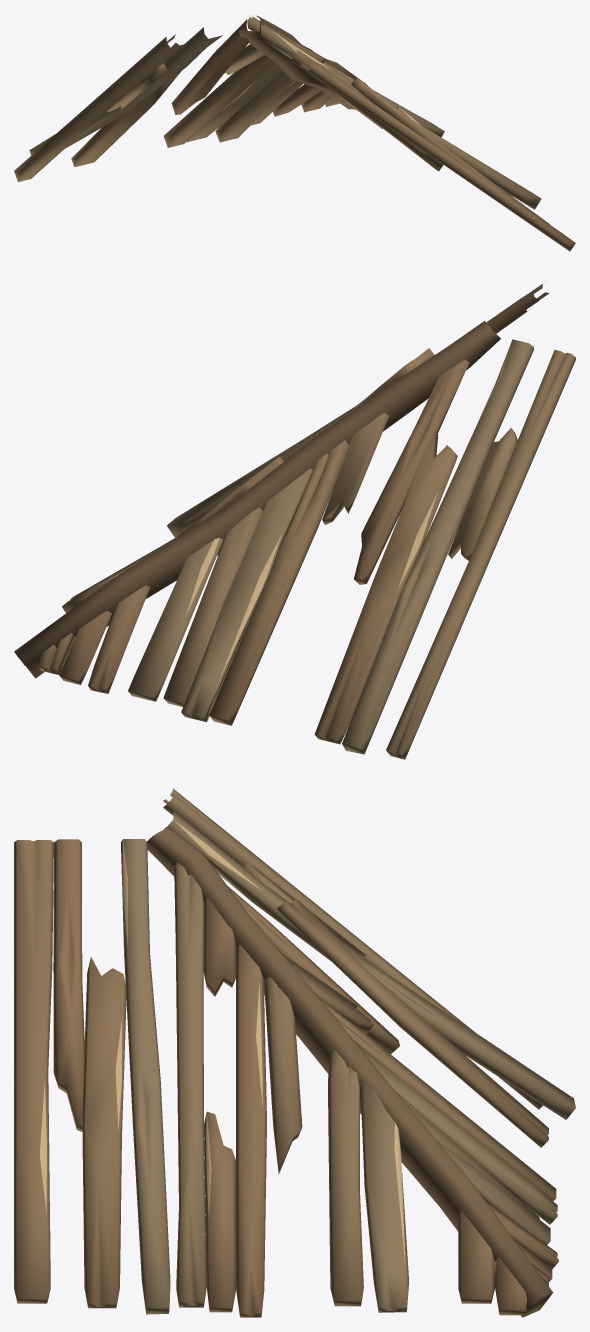
Rendered from rpgpp_av_roof_02_9x4x3_corner_02.gltf.
3 renders of one model, top to bottom at view 1: azimuth 30°, elevation 25°; view 2: azimuth 150°, elevation 25°; view 3: azimuth 270°, elevation 25°, orthographic. The views are drawn at different scales.
Visible parts, largest first — view 1: rpgpp_av_roof_02_9x4x3_corner_02; view 2: rpgpp_av_roof_02_9x4x3_corner_02; view 3: rpgpp_av_roof_02_9x4x3_corner_02.
Part boxes in pixels (x1,y1,x2,y2): rpgpp_av_roof_02_9x4x3_corner_02: (14,15,575,251); rpgpp_av_roof_02_9x4x3_corner_02: (14,284,575,759); rpgpp_av_roof_02_9x4x3_corner_02: (14,788,575,1317).
Bounding box in the file's own units: 0.0704 × 0.0491 × 0.0759.
1 material, 1 textured.
